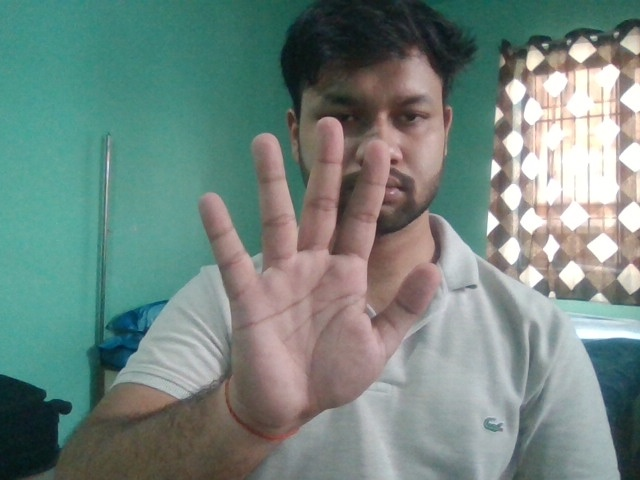Hello: (196, 114, 444, 432)
